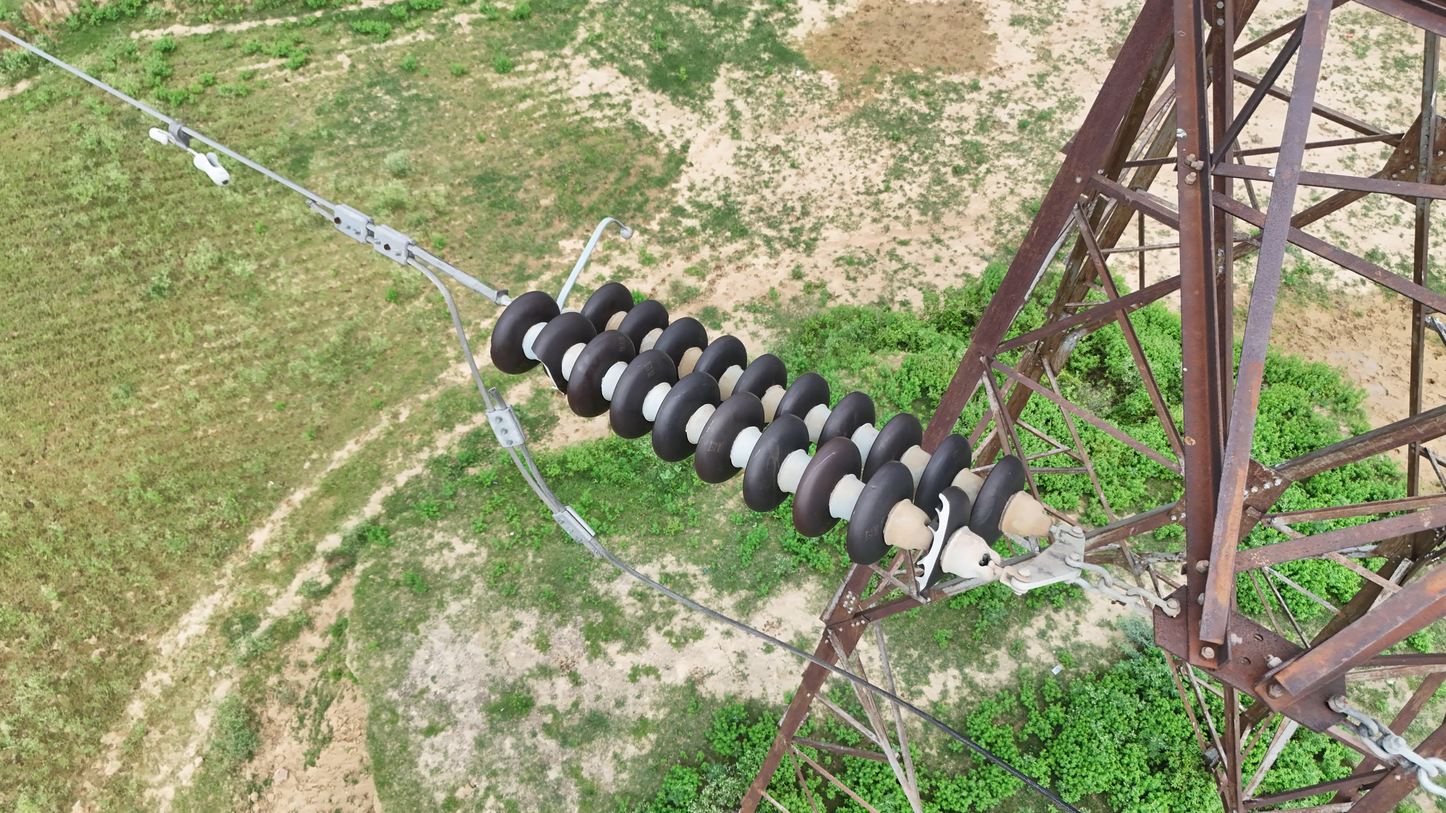broken_insulator: (913, 478, 978, 604), (526, 307, 595, 406)
